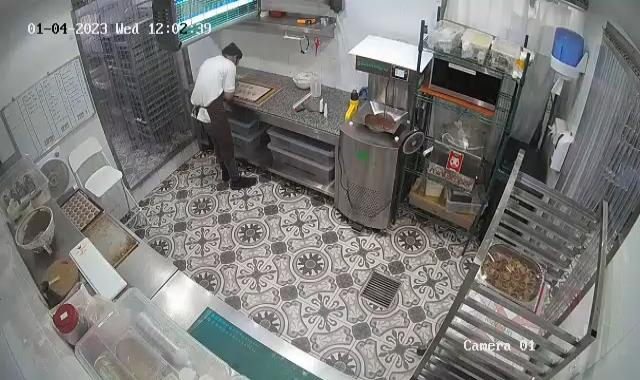no_hairnet: (220, 40, 243, 62)
